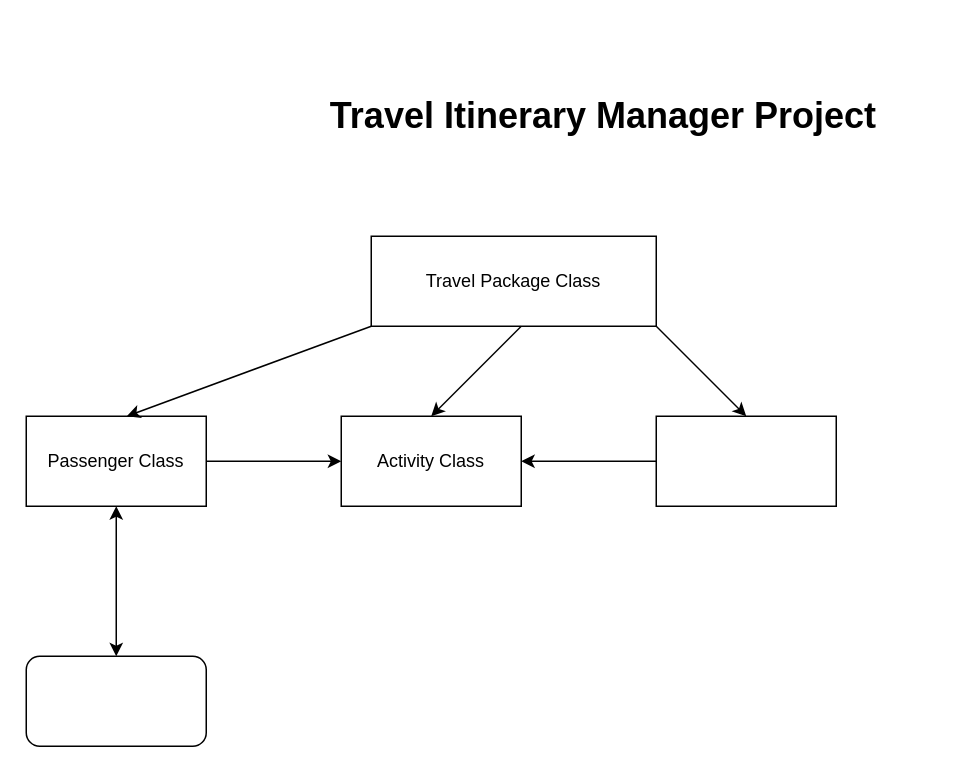
This 968x773 diagram has some shape labels left out. The centre of each missing label's shape, as x and y in pixels:
Destination Class: pixel 745 460
Passenger Type Enum: pixel 115 700
